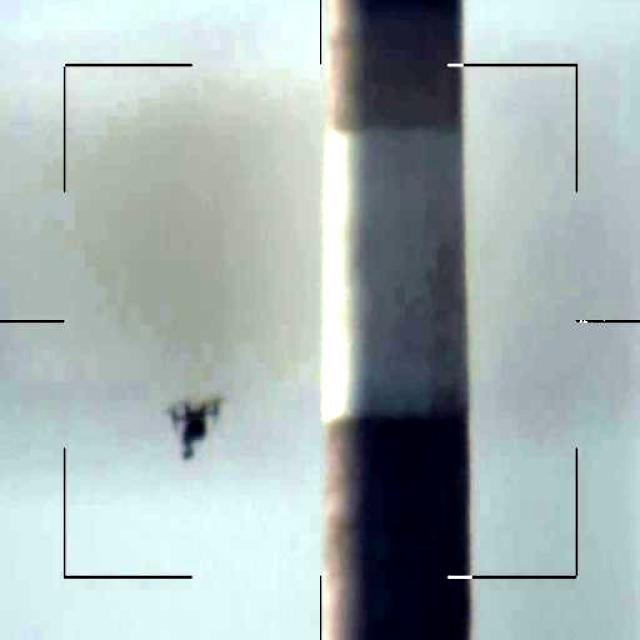bird: (158, 392, 232, 462)
